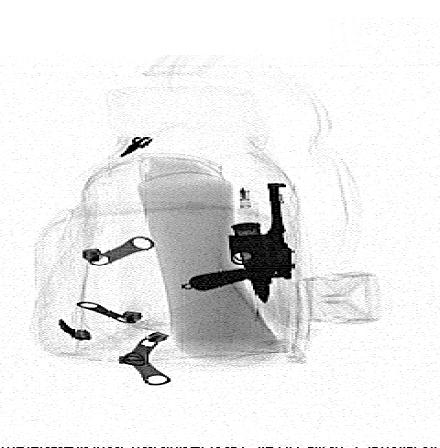Bullet: (230, 223, 272, 304)
Gun: (190, 183, 294, 292)
